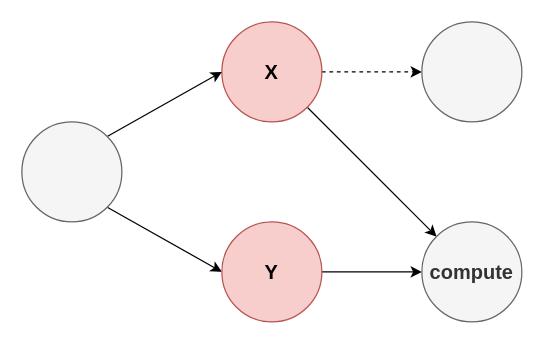
Some shapes in this 544 by 344 pixel diagram are drawn without their labels. Each missing label, with the centre of its shape:
"load" goes at point (71, 171).
"log" goes at point (471, 71).
